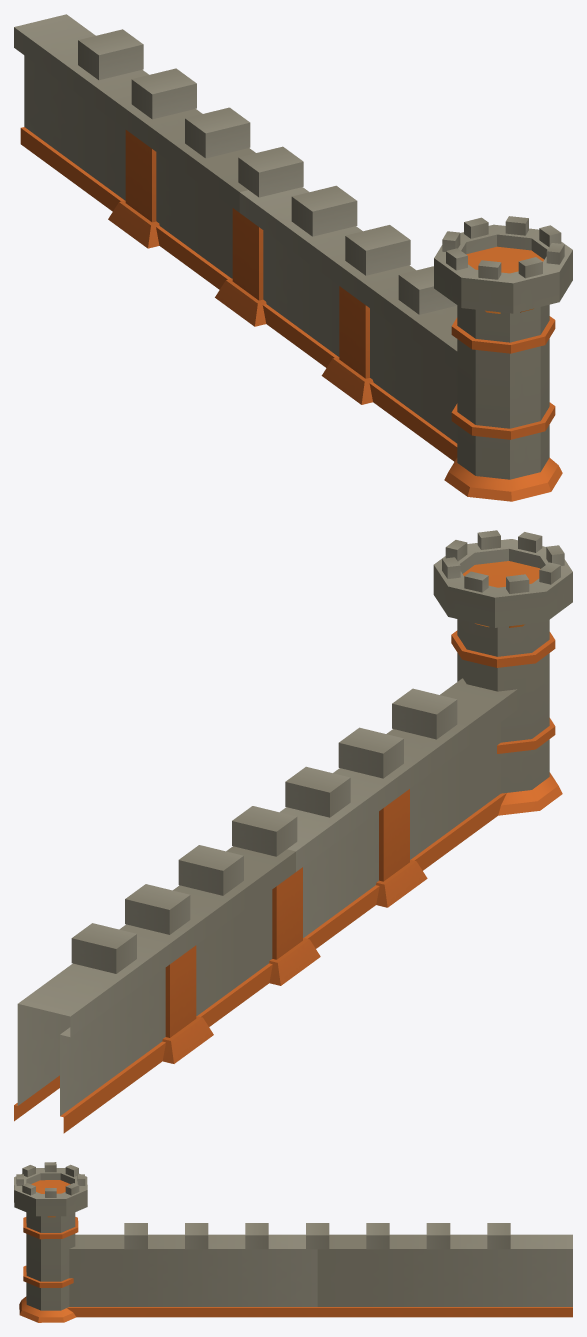
File: Medieval_wall.fbx
The picture shows the model from 3 angles, top to bottom: view 1: azimuth 30°, elevation 25°; view 2: azimuth 150°, elevation 25°; view 3: azimuth 270°, elevation 25°; orthographic projection. The views are drawn at different scales.
Visible parts, largest first — view 1: Medieval_wall; view 2: Medieval_wall; view 3: Medieval_wall.
Part boxes in pixels (x1=…): Medieval_wall: x1=14, y1=14, x2=572, y2=501; Medieval_wall: x1=14, y1=530, x2=572, y2=1133; Medieval_wall: x1=14, y1=1162, x2=572, y2=1322.
Size of the model in its own units: 27.6 by 54.96 by 210.
1 material, 1 textured.
